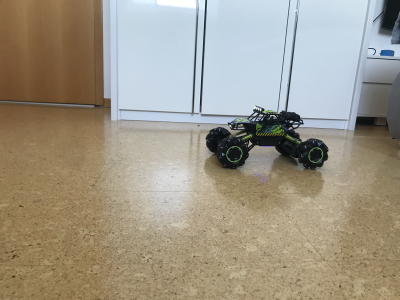remote control car: (203, 104, 331, 171)
